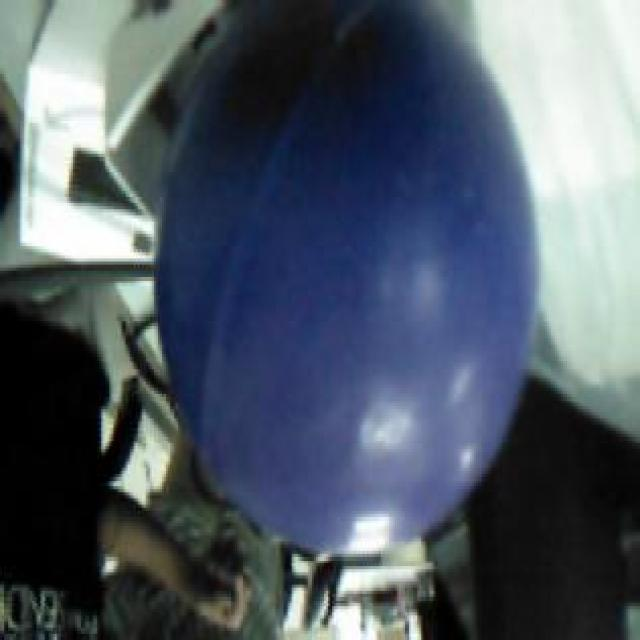BallPurple: (154, 0, 534, 555)
